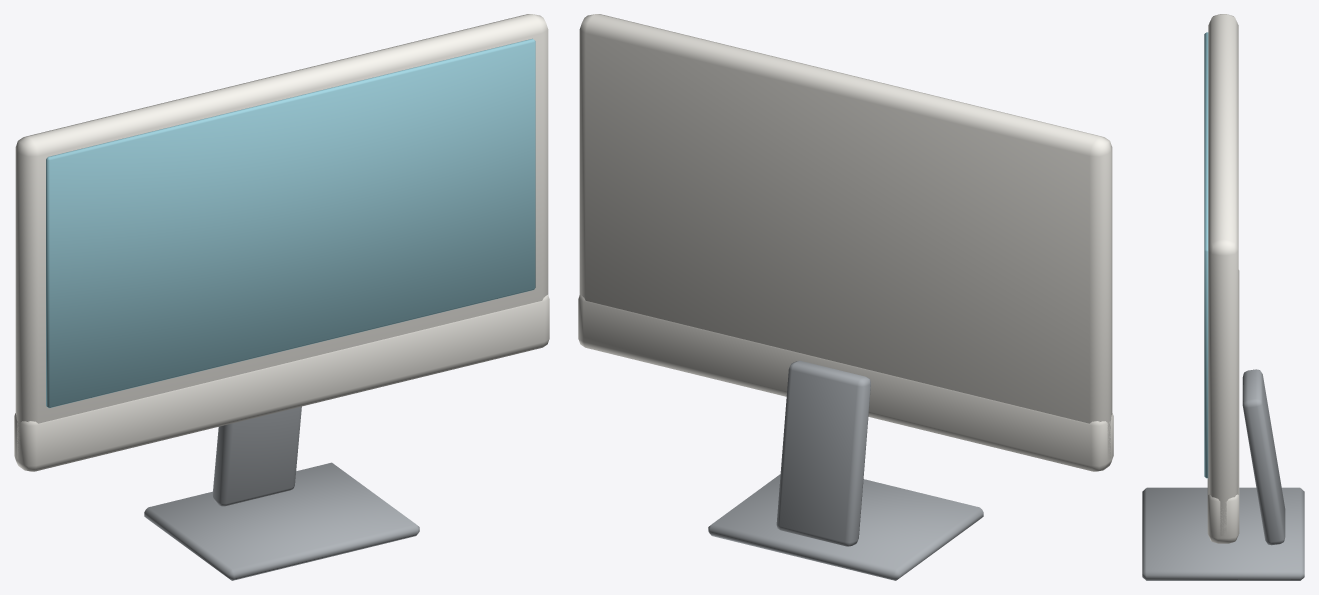
Rendered from imak.glb.
The picture shows the model from 3 angles, left to right: view 1: azimuth 30°, elevation 25°; view 2: azimuth 150°, elevation 25°; view 3: azimuth 270°, elevation 25°; orthographic projection. The views are drawn at different scales.
Parts seen in each view (by area): view 1: imak; view 2: imak; view 3: imak.
Boxes of the visible parts, left/top/right/bottom form: imak: left=14, top=14, right=549, bottom=580; imak: left=578, top=14, right=1113, bottom=580; imak: left=1142, top=14, right=1304, bottom=580.
Bounding box in the file's own units: 0.55 × 0.45 × 0.16.
1 material, 1 textured.
